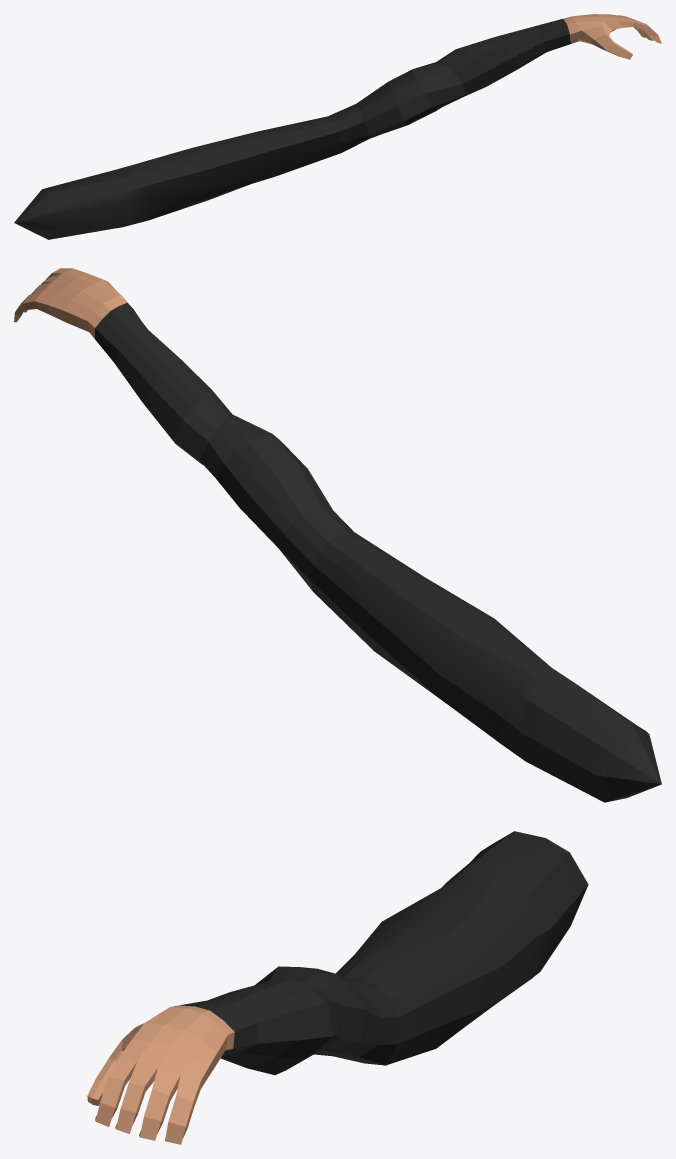
The model's file is left_arm.fbx.
3 renders of one model, top to bottom at view 1: azimuth 30°, elevation 25°; view 2: azimuth 150°, elevation 25°; view 3: azimuth 270°, elevation 25°, orthographic. The views are drawn at different scales.
Parts seen in each view (by area): view 1: pasted__Arm16; view 2: pasted__Arm16; view 3: pasted__Arm16.
Boxes of the visible parts, bbox=[...] form: pasted__Arm16: bbox=[14, 14, 661, 239]; pasted__Arm16: bbox=[14, 268, 661, 802]; pasted__Arm16: bbox=[87, 831, 588, 1144].
Bounding box in the file's own units: 0.0261 × 0.0082 × 0.0105.
